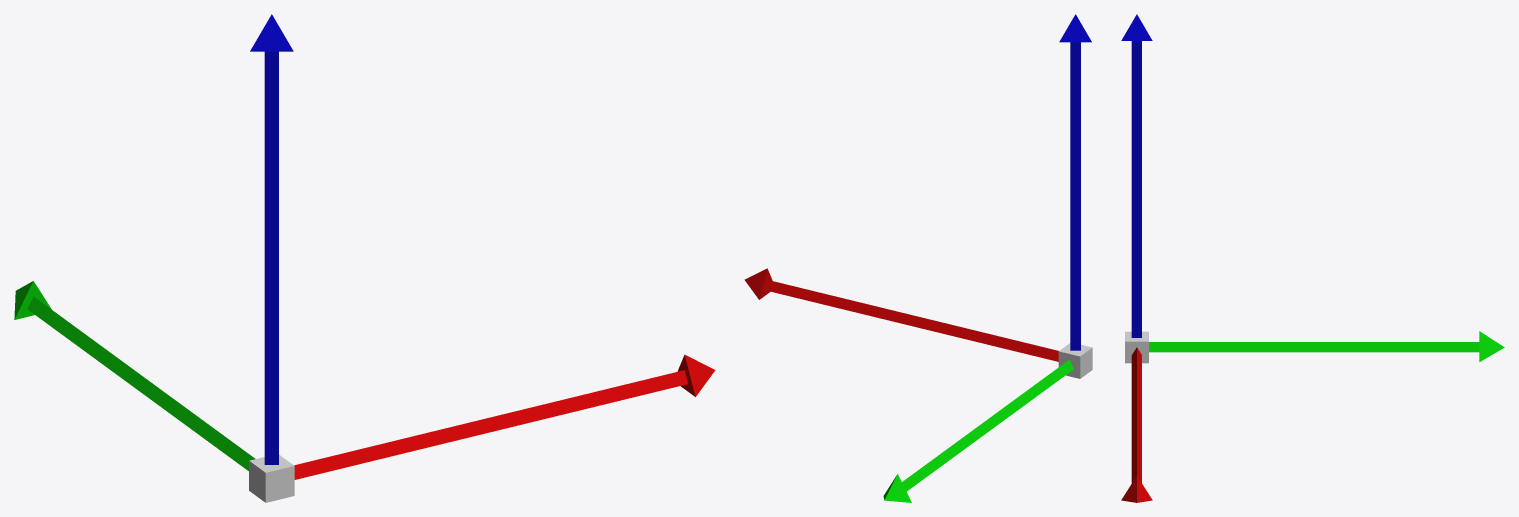
Rendered from axes_gizmo.obj.
The picture shows the model from 3 angles, left to right: view 1: azimuth 30°, elevation 25°; view 2: azimuth 150°, elevation 25°; view 3: azimuth 270°, elevation 25°; orthographic projection. The views are drawn at different scales.
Parts seen in each view (by area): view 1: Cylinder.002; view 2: Cylinder.002; view 3: Cylinder.002.
Part boxes in pixels (x1=…): Cylinder.002: x1=14, y1=14, x2=715, y2=502; Cylinder.002: x1=744, y1=14, x2=1092, y2=502; Cylinder.002: x1=1121, y1=14, x2=1504, y2=502.
Bounding box in the file's own units: 1.05 × 1.03 × 1.04.
